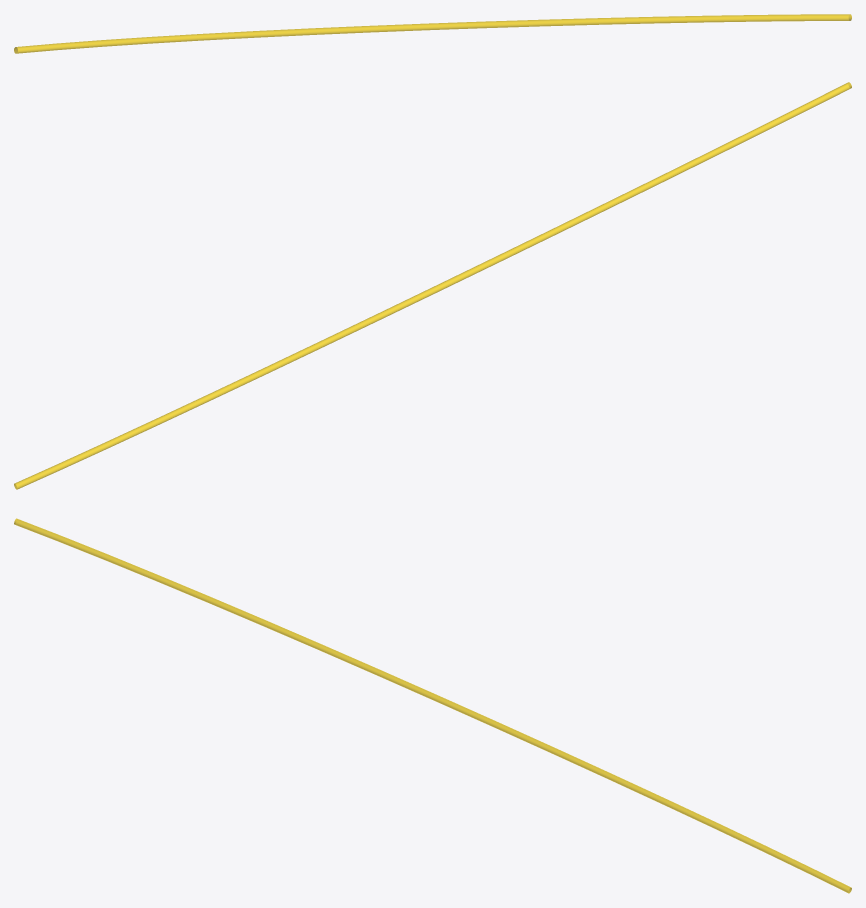
Rendered from Event_27938768_track_39.fbx.
3 views of the same model, one above another, from view 1: azimuth 30°, elevation 25°; view 2: azimuth 210°, elevation 25°; view 3: azimuth 330°, elevation 25° (orthographic). The views are drawn at different scales.
Parts seen in each view (by area): view 1: Model; view 2: Model; view 3: Model.
Boxes of the visible parts, x1,y1,x2,y2 form: Model: (14,14,851,53); Model: (14,82,851,489); Model: (14,518,851,893).
Bounding box in the file's own units: 5.8 × 1.24 × 0.2219.
